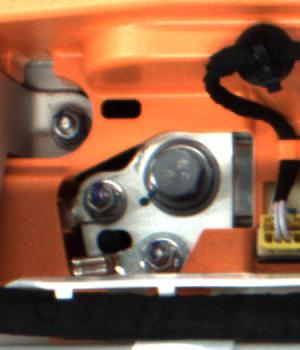nut_b: (140, 139, 220, 215)
screw_s: (48, 107, 92, 148), (144, 239, 188, 274), (82, 179, 121, 216)
